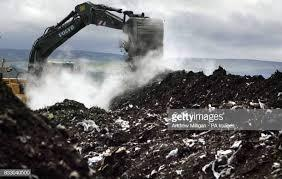smoke: (23, 25, 231, 111)
